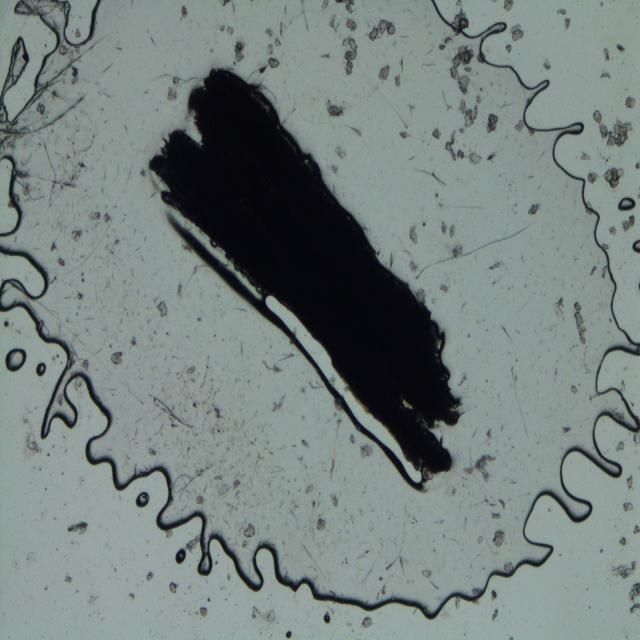Air bubble: (155, 463, 307, 604), (574, 180, 638, 372), (485, 469, 593, 582), (0, 301, 81, 438), (511, 60, 591, 184), (554, 370, 640, 481), (77, 370, 157, 489), (312, 578, 492, 623), (0, 26, 60, 124), (431, 0, 511, 71), (0, 242, 52, 302), (10, 0, 71, 45), (0, 150, 25, 243), (57, 0, 102, 47), (2, 346, 28, 372), (616, 195, 636, 212), (136, 488, 150, 507), (176, 548, 188, 565), (34, 361, 46, 377), (631, 236, 640, 254)
Background material: (443, 49, 511, 164), (416, 216, 536, 277), (0, 109, 66, 154), (48, 147, 104, 199), (188, 371, 222, 436), (146, 392, 192, 433), (172, 458, 216, 498), (337, 0, 360, 75), (592, 108, 636, 146), (387, 507, 411, 574), (34, 67, 66, 114), (462, 446, 500, 482), (264, 348, 306, 375), (15, 169, 47, 202), (409, 165, 448, 187), (328, 411, 340, 480), (574, 300, 590, 348), (367, 17, 397, 42), (480, 494, 506, 520), (266, 19, 284, 54), (64, 90, 88, 116), (18, 436, 42, 462), (448, 6, 468, 37), (611, 555, 640, 576), (232, 36, 252, 66), (87, 210, 116, 229), (250, 603, 276, 624), (58, 42, 82, 63), (81, 128, 99, 155), (602, 166, 626, 186), (166, 71, 184, 97), (212, 20, 236, 37), (267, 394, 288, 413), (621, 210, 638, 233), (297, 0, 309, 32), (68, 520, 88, 538), (405, 252, 421, 274), (107, 234, 123, 256), (438, 203, 485, 210), (328, 100, 347, 117), (168, 277, 185, 296), (498, 322, 514, 342), (186, 533, 202, 553), (551, 294, 565, 316), (216, 478, 233, 496), (107, 349, 125, 366), (241, 522, 257, 541), (299, 479, 319, 494), (491, 529, 507, 547), (409, 222, 421, 245), (333, 144, 349, 160), (177, 4, 191, 22), (414, 285, 427, 304), (620, 499, 636, 514), (67, 229, 83, 244), (511, 24, 525, 41), (378, 63, 392, 80), (220, 0, 238, 13), (586, 168, 600, 184), (360, 442, 374, 458), (253, 451, 266, 468), (54, 218, 67, 235), (451, 241, 463, 259), (156, 299, 168, 317), (502, 559, 516, 574), (21, 150, 34, 166), (316, 516, 329, 532), (628, 582, 640, 599), (329, 492, 340, 510), (438, 36, 450, 52), (503, 0, 519, 12), (488, 258, 504, 270), (512, 118, 524, 134), (626, 95, 639, 109), (458, 368, 468, 386), (446, 480, 458, 495), (429, 126, 441, 141), (562, 15, 573, 31), (528, 203, 541, 216), (471, 583, 484, 596), (436, 280, 448, 294), (541, 56, 553, 70), (598, 70, 612, 82), (142, 570, 156, 582), (309, 380, 321, 394), (146, 444, 158, 458), (60, 572, 74, 584), (613, 439, 625, 452), (330, 11, 337, 33), (270, 58, 281, 72), (359, 616, 373, 627), (631, 429, 640, 446), (71, 71, 80, 88), (299, 432, 308, 449), (232, 303, 247, 313), (624, 477, 634, 492), (73, 25, 83, 40), (601, 47, 611, 62), (510, 366, 518, 384), (628, 602, 640, 614), (421, 568, 433, 580), (185, 399, 198, 410), (587, 262, 597, 276), (488, 608, 498, 622), (103, 60, 113, 74), (559, 422, 571, 433), (429, 578, 440, 590), (398, 128, 410, 139), (350, 124, 362, 135), (259, 62, 270, 74), (167, 583, 178, 595), (323, 611, 333, 624), (394, 73, 402, 89), (238, 342, 246, 358), (400, 54, 406, 75), (338, 558, 349, 569), (297, 385, 307, 397), (102, 277, 112, 289), (619, 534, 629, 546), (195, 492, 204, 505), (122, 115, 130, 129), (78, 270, 86, 284), (440, 220, 448, 234), (619, 376, 627, 390), (581, 151, 591, 162), (615, 42, 625, 53), (474, 533, 484, 544), (48, 241, 58, 252), (127, 590, 138, 600), (146, 34, 156, 45), (196, 608, 208, 617), (608, 224, 616, 237), (448, 225, 456, 238), (486, 427, 494, 440), (130, 334, 138, 347), (51, 275, 61, 285), (75, 292, 85, 302), (320, 49, 331, 58), (233, 477, 241, 489), (232, 374, 240, 386), (505, 41, 513, 53), (286, 627, 294, 639), (602, 263, 608, 278), (58, 257, 68, 266), (329, 164, 339, 173), (164, 528, 173, 538), (455, 598, 462, 610), (633, 523, 640, 535), (489, 590, 496, 602), (601, 240, 610, 249), (569, 384, 577, 394), (556, 7, 566, 15), (406, 104, 414, 114), (412, 606, 420, 616), (115, 44, 123, 53), (375, 574, 383, 583), (635, 157, 640, 171), (408, 154, 418, 161), (248, 438, 258, 445), (463, 514, 467, 531), (140, 167, 146, 178), (282, 4, 288, 15), (380, 583, 386, 594), (349, 434, 355, 444), (435, 190, 441, 199), (83, 359, 89, 368), (492, 278, 498, 286), (321, 0, 327, 8), (118, 318, 124, 325), (187, 444, 191, 454), (77, 254, 87, 258), (499, 424, 504, 431), (422, 220, 427, 227), (144, 88, 149, 95), (554, 366, 556, 382), (466, 333, 472, 338), (153, 330, 158, 336), (121, 306, 126, 312), (107, 342, 112, 348), (148, 318, 152, 325), (462, 300, 466, 307), (589, 394, 593, 401), (134, 429, 138, 436), (198, 316, 202, 323), (76, 311, 80, 317), (514, 202, 518, 207), (511, 444, 515, 449), (100, 188, 104, 193), (212, 333, 216, 338), (485, 378, 489, 382), (315, 501, 317, 508), (165, 331, 168, 335), (516, 356, 518, 361), (610, 319, 612, 323), (525, 284, 527, 288)
Natural material: (140, 59, 462, 473)
